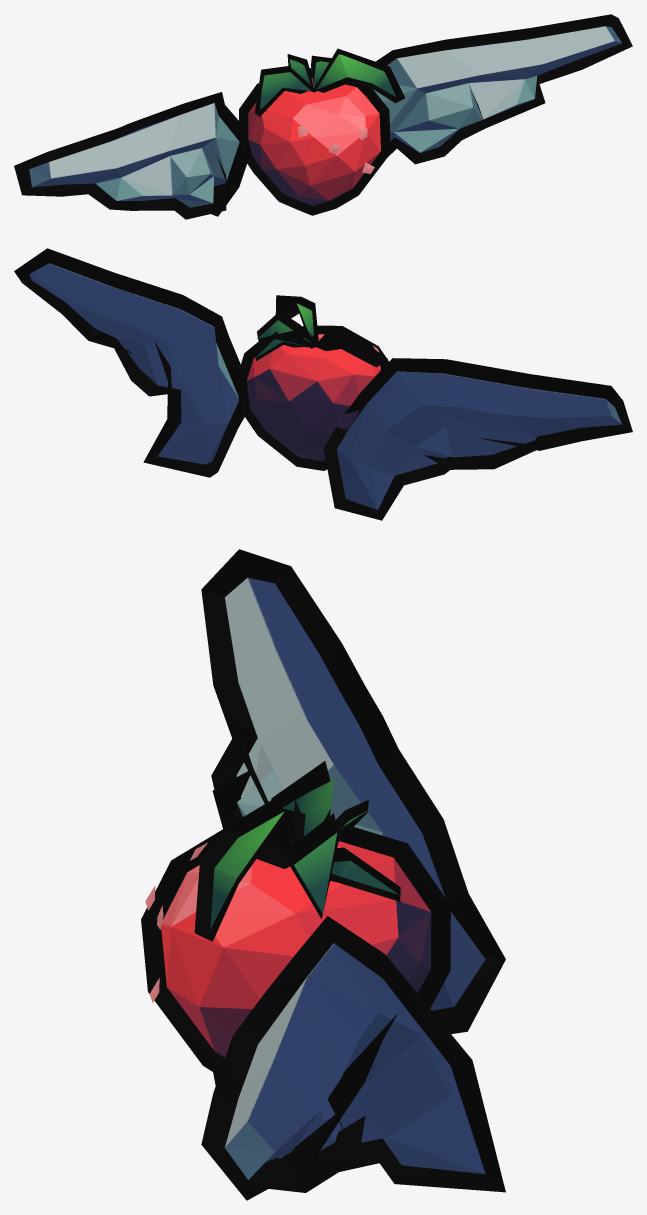
File: celeste.glb
The picture shows the model from 3 angles, top to bottom: view 1: azimuth 30°, elevation 25°; view 2: azimuth 150°, elevation 25°; view 3: azimuth 270°, elevation 25°; orthographic projection. The views are drawn at different scales.
Parts seen in each view (by area): view 1: Stby_Rast; view 2: Stby_Rast; view 3: Stby_Rast.
Part boxes in pixels (x1,y1,x2,y2): Stby_Rast: (14,14,632,219); Stby_Rast: (14,248,632,520); Stby_Rast: (141,549,505,1200).
Bounding box in the file's own units: 8.02 × 2.1 × 2.07.
1 material, 1 textured.
